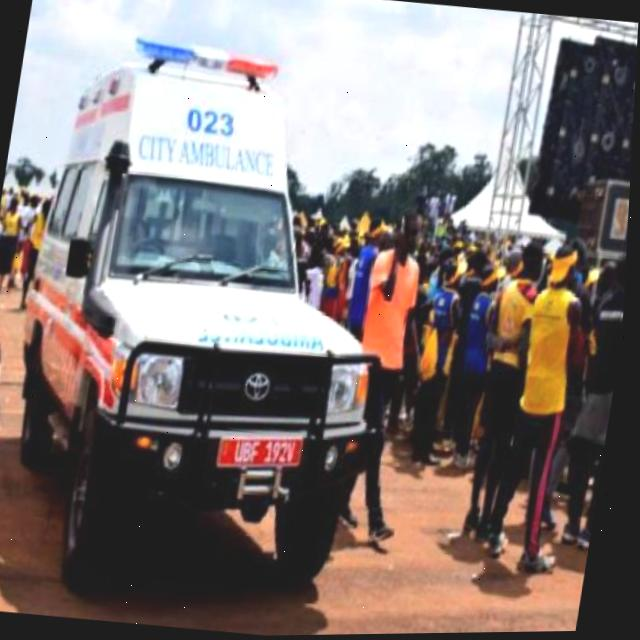emergency: (0, 23, 436, 622)
